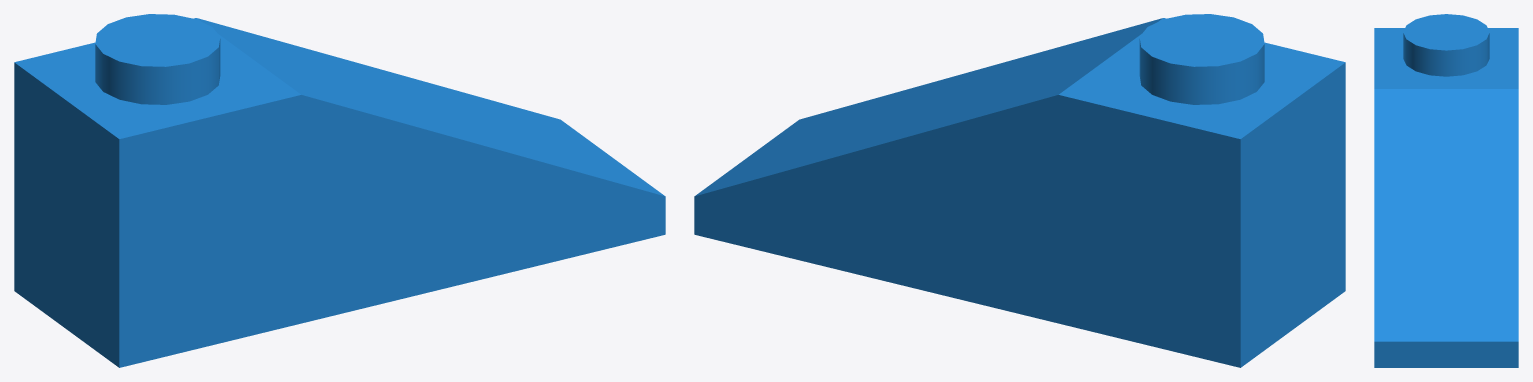
The model's file is slope_3x1_4286.glb.
3 views of the same model, side by side, from view 1: azimuth 30°, elevation 25°; view 2: azimuth 150°, elevation 25°; view 3: azimuth 270°, elevation 25° (orthographic). The views are drawn at different scales.
Parts seen in each view (by area): view 1: 00001_4286.dat; view 2: 00001_4286.dat; view 3: 00001_4286.dat.
Boxes of the visible parts, x1,y1,x2,y2 form: 00001_4286.dat: (14, 14, 665, 367); 00001_4286.dat: (694, 14, 1345, 367); 00001_4286.dat: (1374, 14, 1518, 367).
Bounding box in the file's own units: 2.4 × 1.12 × 0.8.
